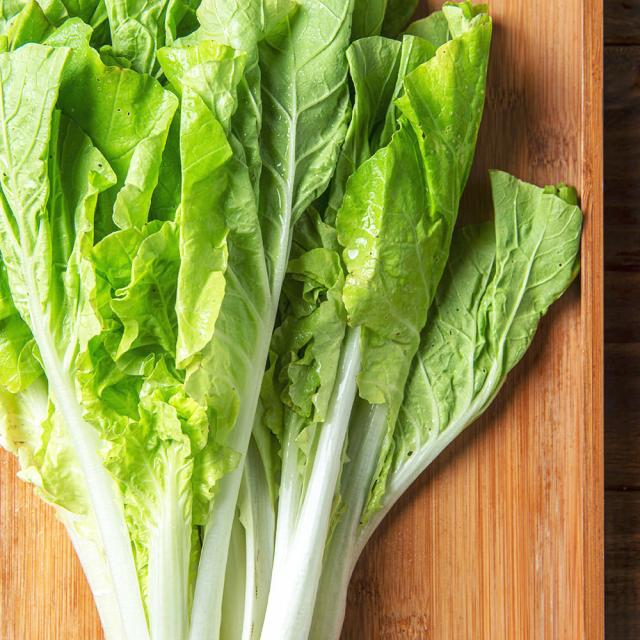chinese_cabbage: (0, 3, 574, 640)
